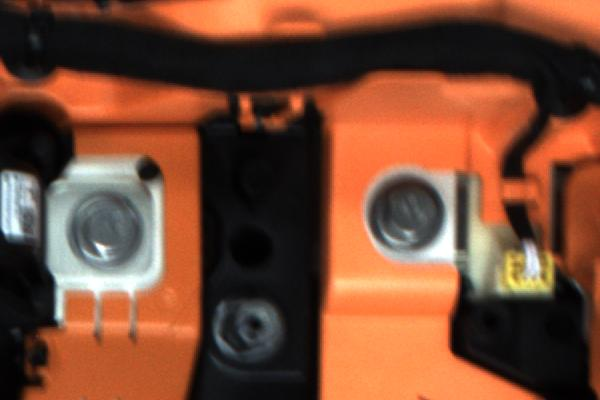nut_b: (359, 168, 448, 263), (61, 185, 148, 274)
